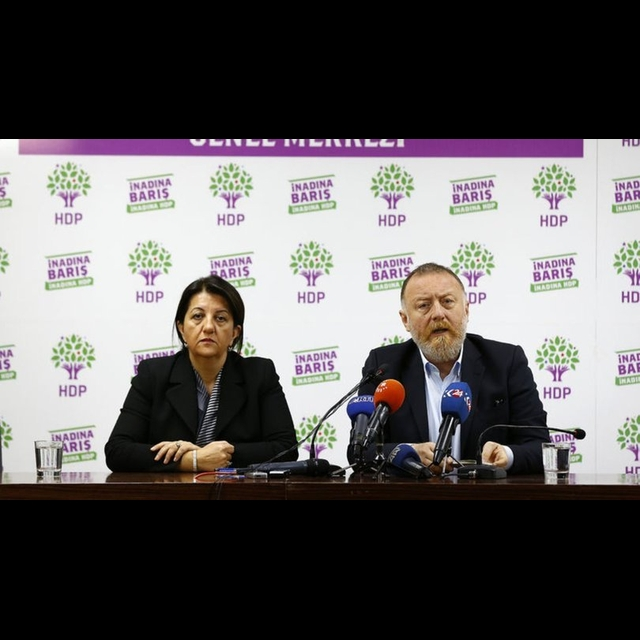HDP: (119, 233, 175, 289), (367, 160, 416, 211), (530, 163, 580, 211), (208, 161, 255, 209), (287, 244, 338, 288)
